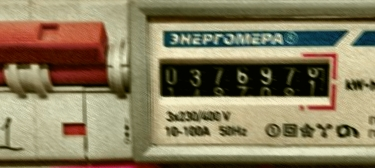0: (162, 65, 175, 85)
1: (304, 78, 316, 96)
3: (186, 67, 199, 87)
6: (233, 63, 246, 84)
7: (209, 64, 222, 85), (281, 64, 293, 86)
9: (257, 65, 269, 86)
screen: (149, 47, 340, 113)
